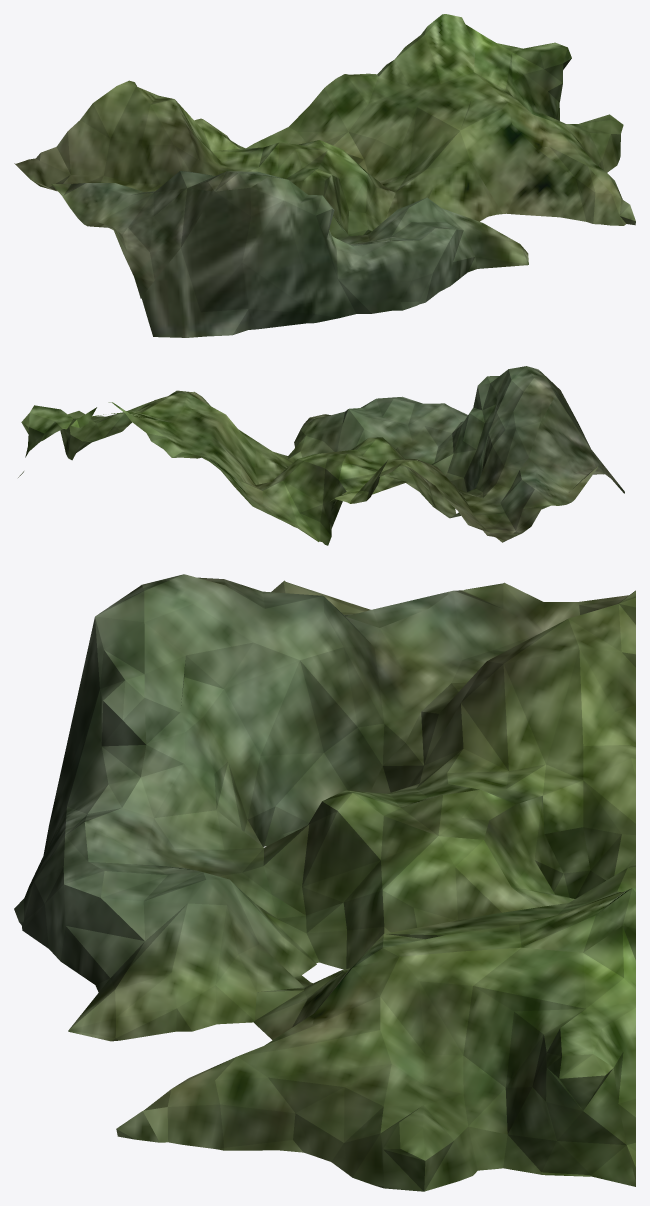
3 renders of one model, top to bottom at view 1: azimuth 30°, elevation 25°; view 2: azimuth 150°, elevation 25°; view 3: azimuth 270°, elevation 25°, orthographic. The views are drawn at different scales.
Size of the model in its own units: 2.17 by 0.4995 by 1.21.
1 material, 1 textured.
